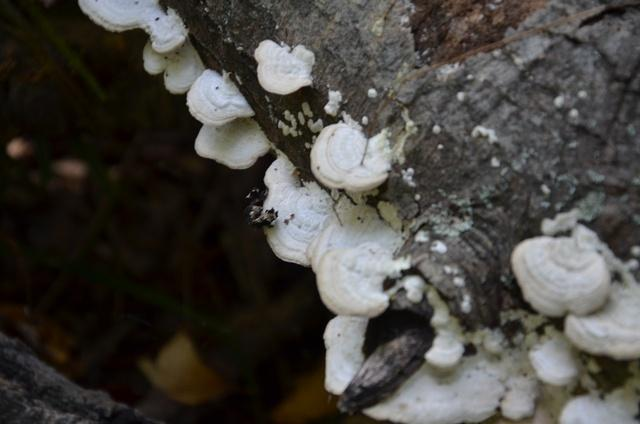Non-edible Mushroom: (64, 0, 415, 424), (396, 217, 640, 424), (308, 120, 393, 196)
